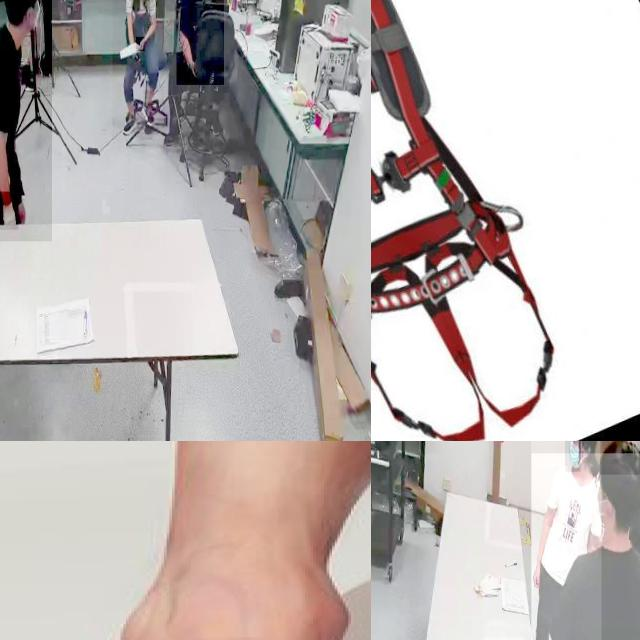Harness: (371, 0, 555, 441)
face_mask: (565, 441, 580, 472)
hand_glove: (0, 191, 18, 230)
hand_noglove: (529, 562, 541, 588), (186, 57, 196, 77), (136, 37, 145, 52)
head_nohelmet: (600, 441, 640, 475)
person: (531, 453, 640, 640), (530, 441, 601, 640), (0, 0, 52, 242), (112, 0, 165, 149), (176, 0, 224, 85)
shoes: (121, 104, 139, 138), (141, 101, 157, 127)
